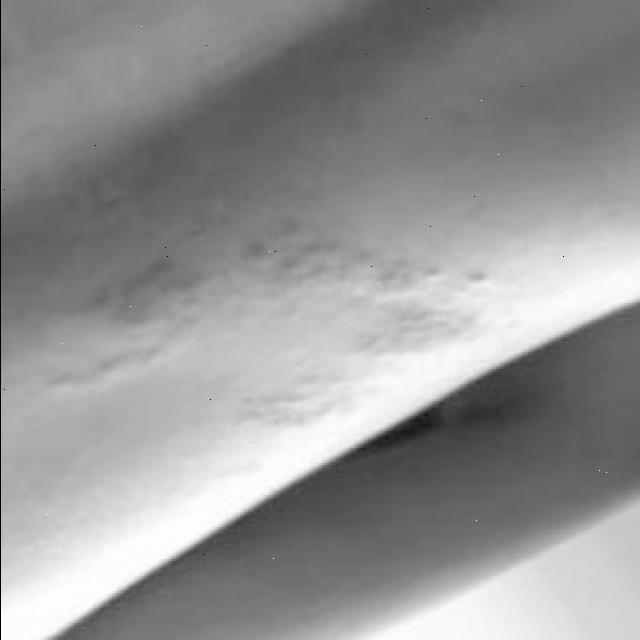Shingles: (51, 215, 495, 422)
